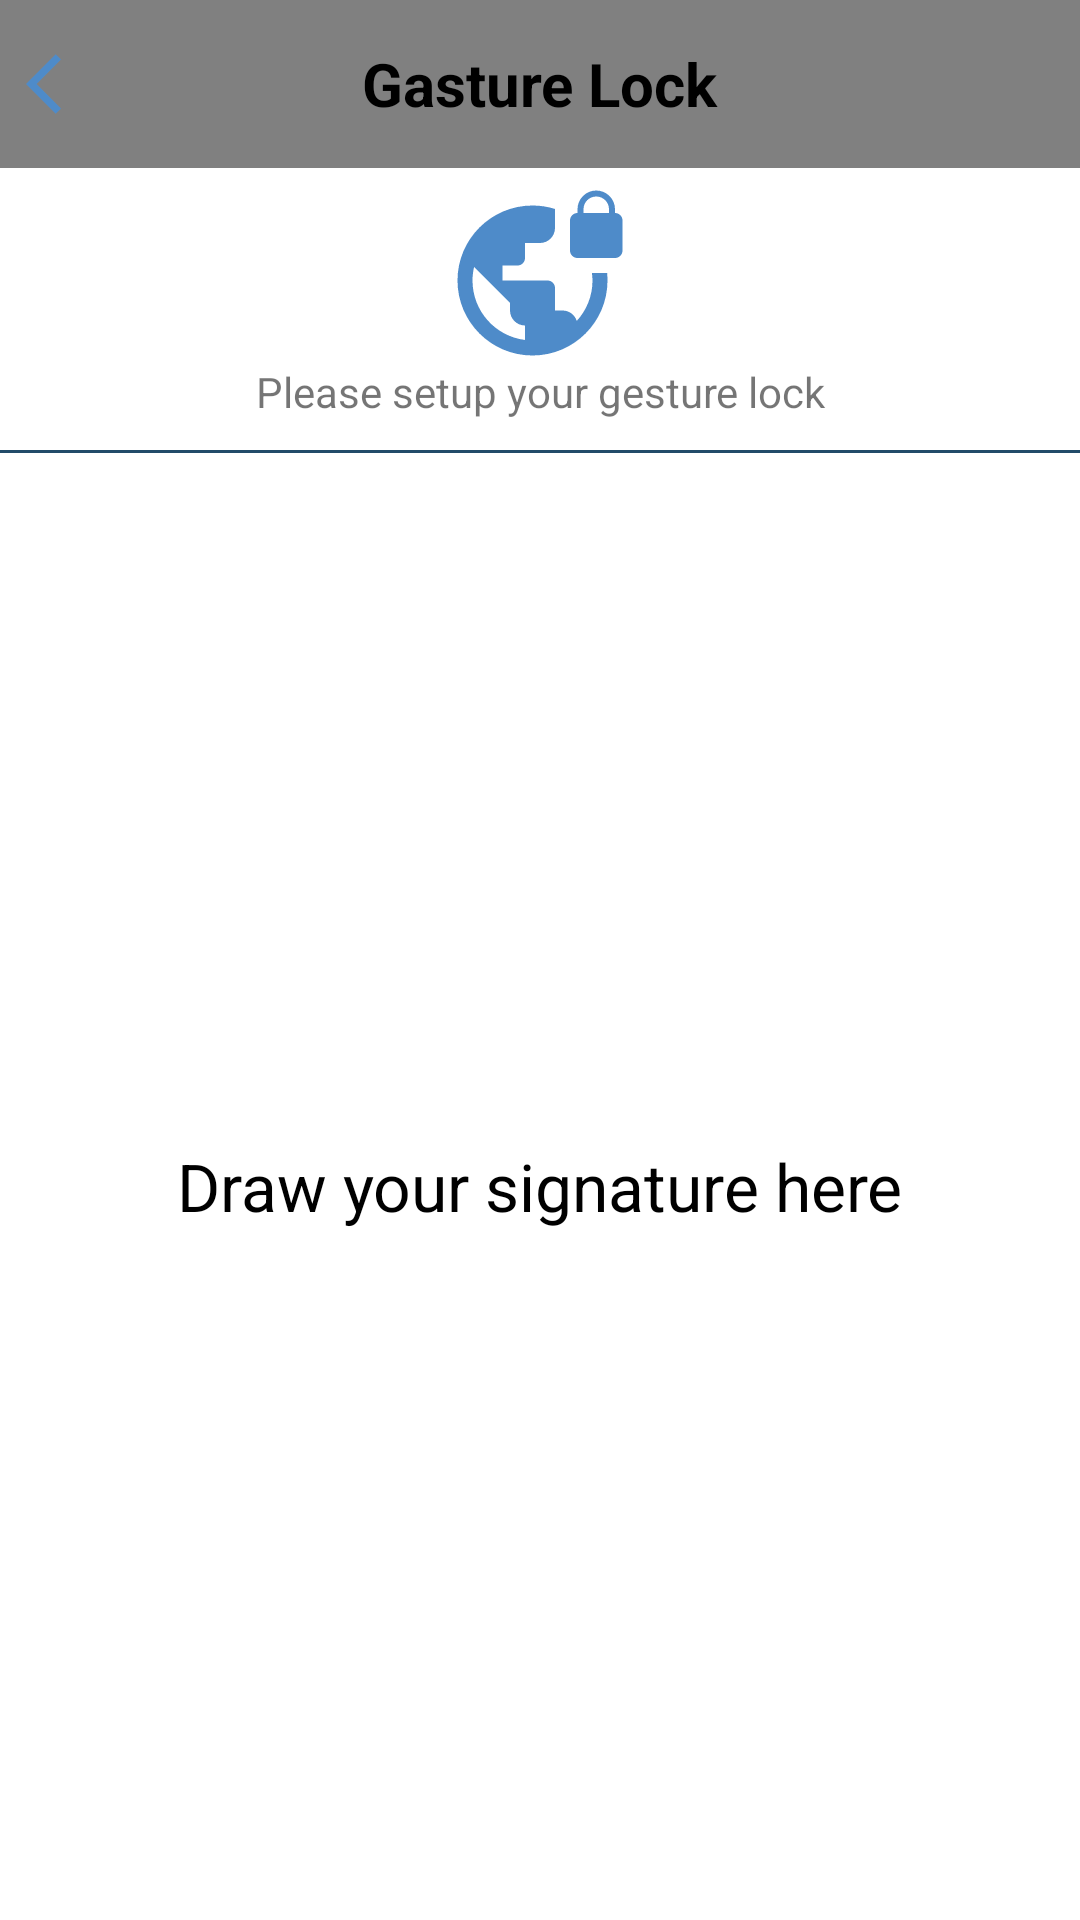

Icons on this 1080px x 1920px Android screen, each with its box as [left=x1, top=y1, right=x2, bottom=y2]:
back: [left=26, top=54, right=61, bottom=114]
vpn lock: [left=457, top=190, right=623, bottom=356]
